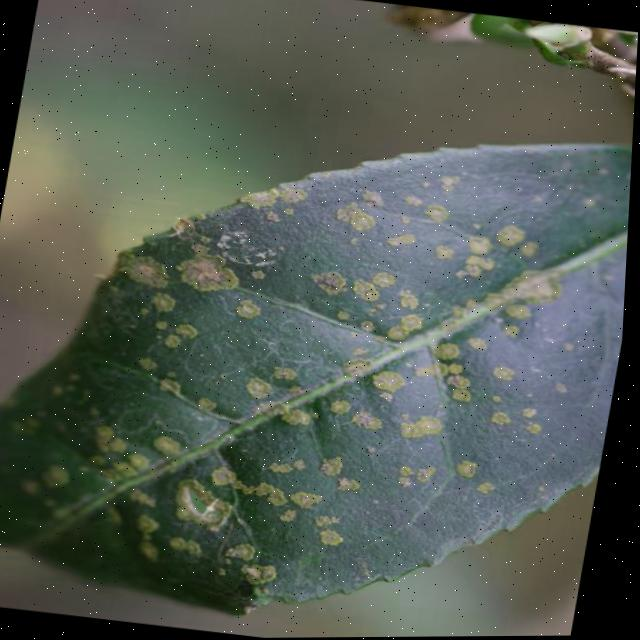Tea algae leaf spot: (8, 158, 578, 626)
